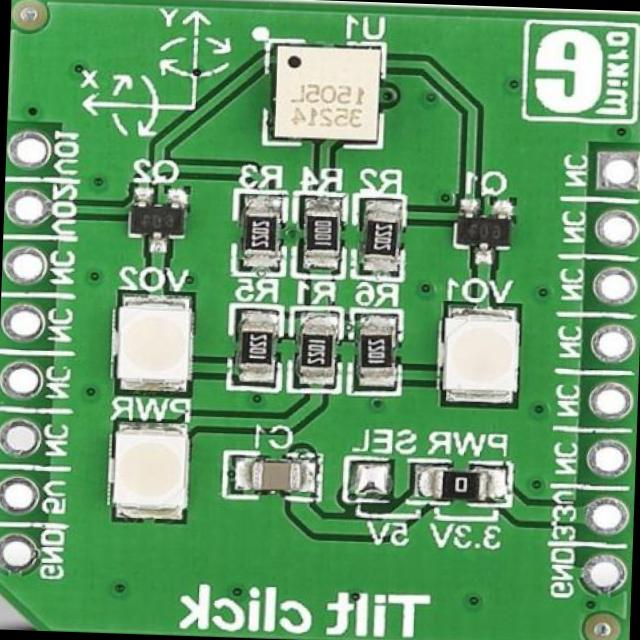IC: (272, 47, 381, 145)
LED: (106, 424, 184, 524), (441, 309, 518, 406), (119, 296, 194, 394)
capacitor: (246, 454, 308, 496)
resistor: (231, 312, 276, 388), (238, 196, 282, 272), (356, 204, 401, 272), (295, 316, 339, 385), (356, 316, 394, 388), (302, 200, 340, 268), (422, 466, 491, 500)
transistor: (130, 196, 182, 252), (462, 208, 512, 264)
